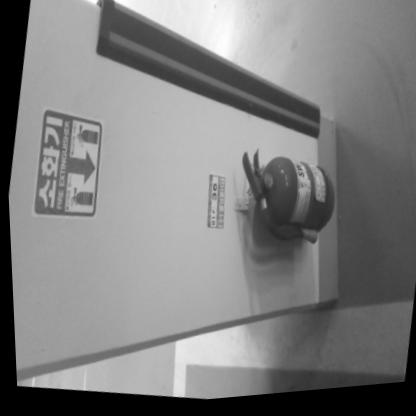FE: (228, 151, 340, 258)
